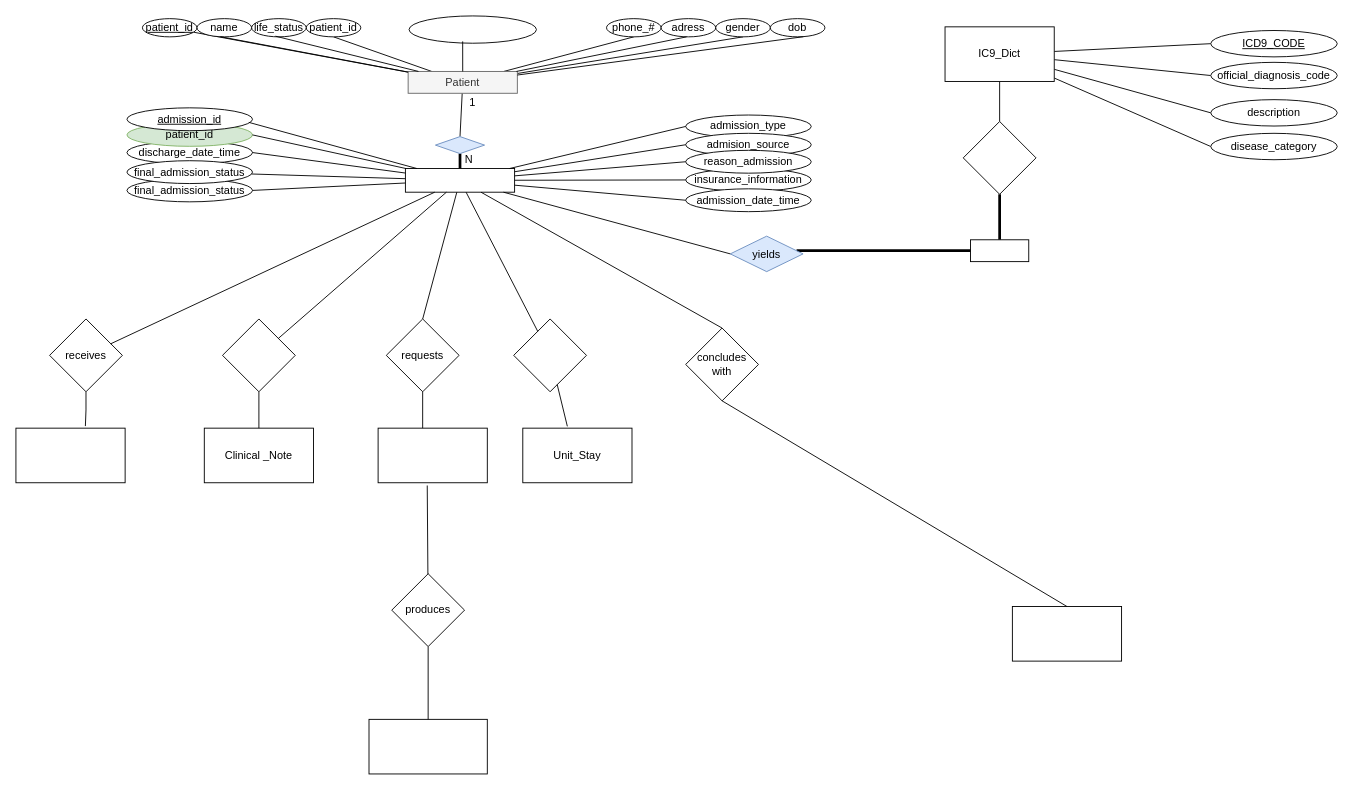
The diagram is 1353 pixels wide and 790 high, and some of its shapes have lost their labels. Each missing label, with the box of its shape:
Admission: (404, 168, 515, 192)
defines: (962, 121, 1036, 194)
Diagnosis: (970, 239, 1029, 262)
Diagnostic_Order: (377, 427, 487, 483)
Discharge_Record: (1011, 606, 1122, 661)
emergency_contact: (408, 15, 536, 43)
generates: (222, 318, 295, 392)
Radiology_Examination: (368, 718, 487, 774)
tracks: (513, 318, 586, 392)
Triage Assessment: (15, 427, 125, 483)
visit: (435, 136, 485, 154)
